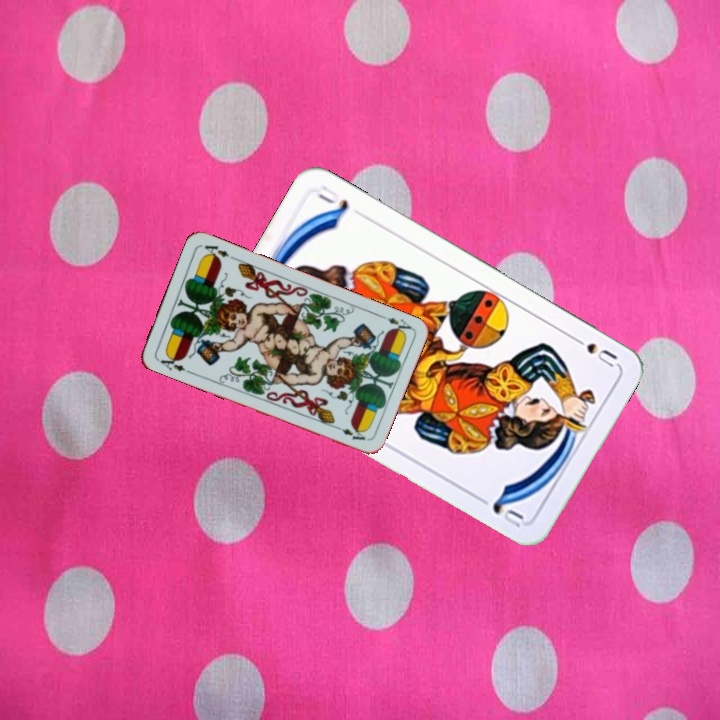EA: (375, 311, 414, 337), (156, 350, 193, 375)
SU: (566, 332, 620, 371)
